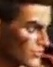kevin: (4, 0, 48, 66)
